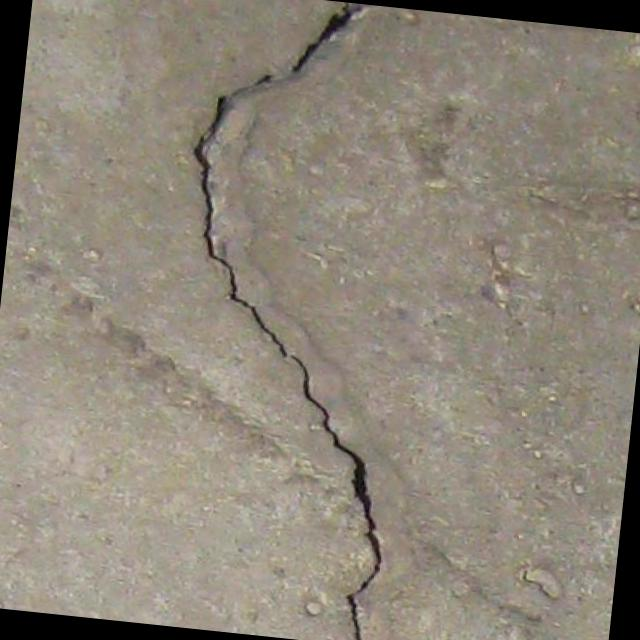crack: (186, 303, 416, 640), (173, 0, 365, 314)
